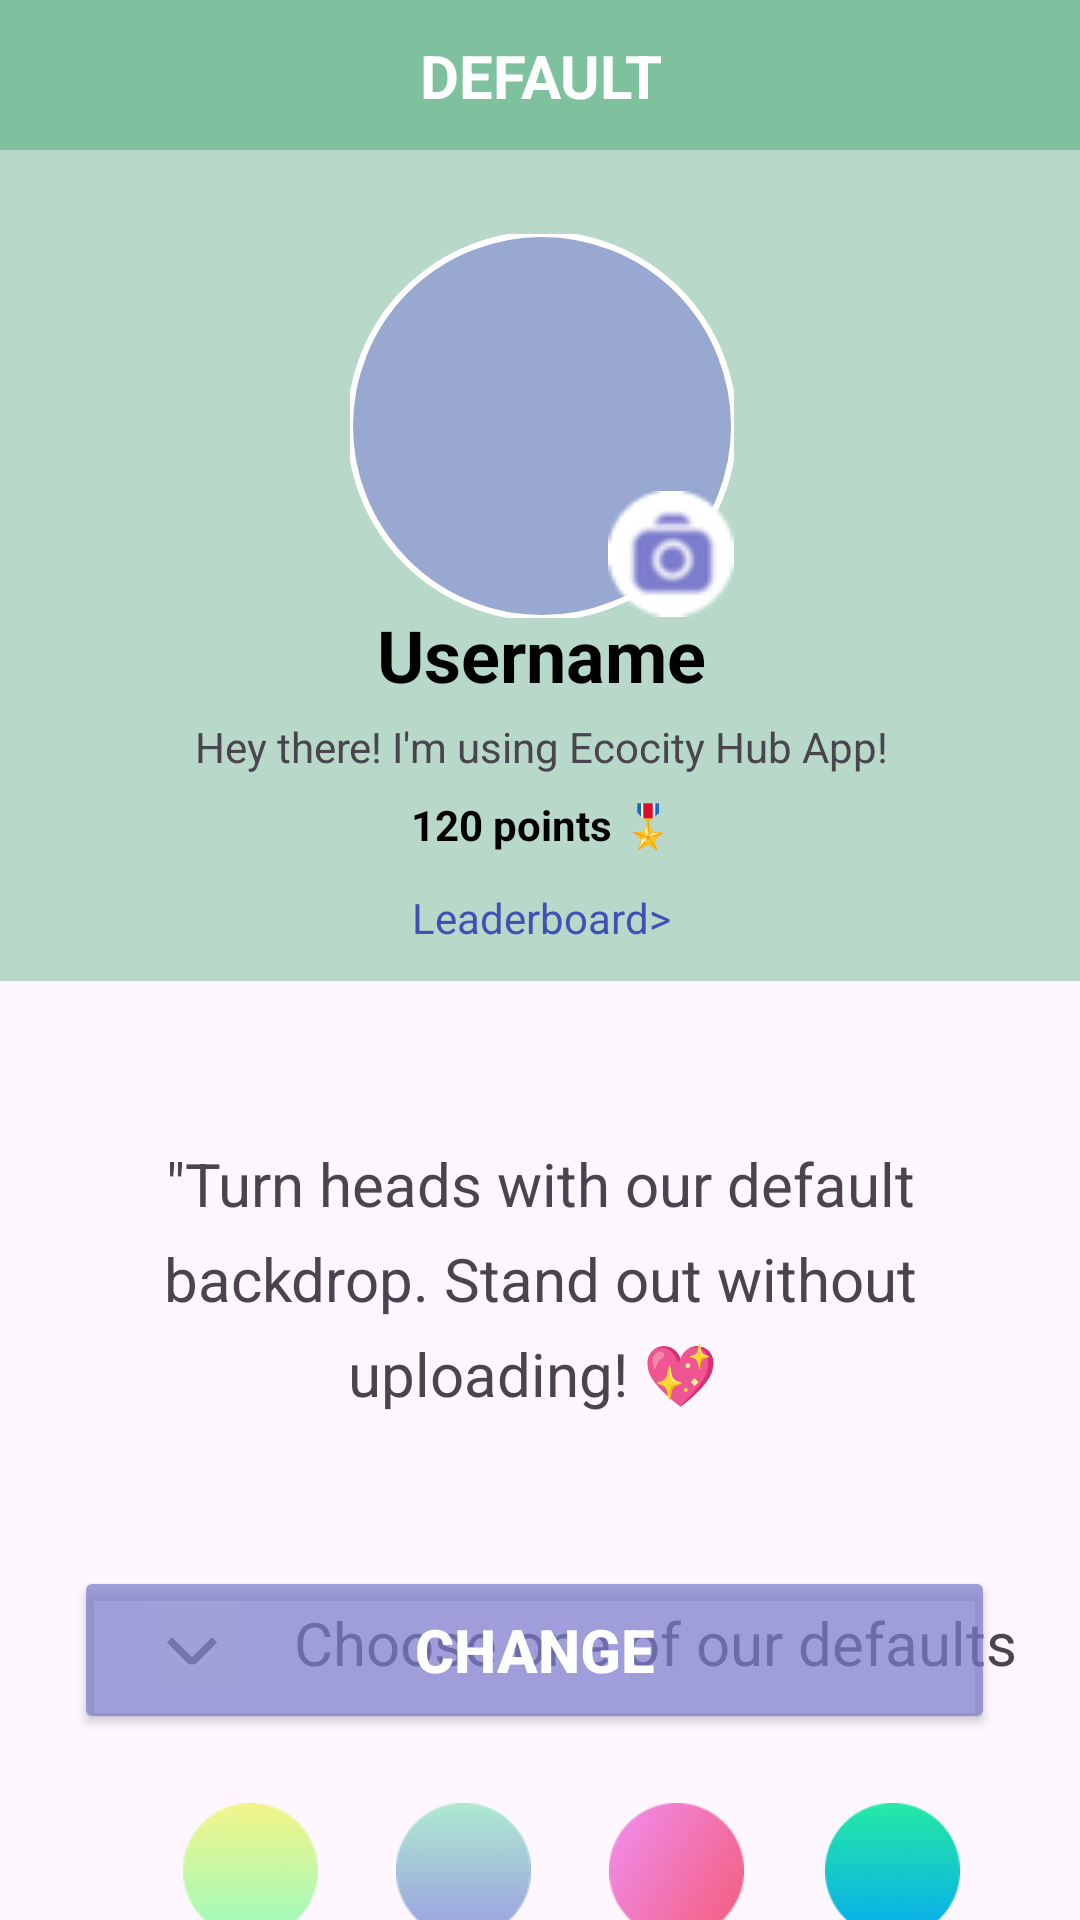

Icon click points for this 1080w x 1920h phone screenshot, format (x=x, y=y):
camera: (x=671, y=553)
drop down: (x=192, y=1651)
